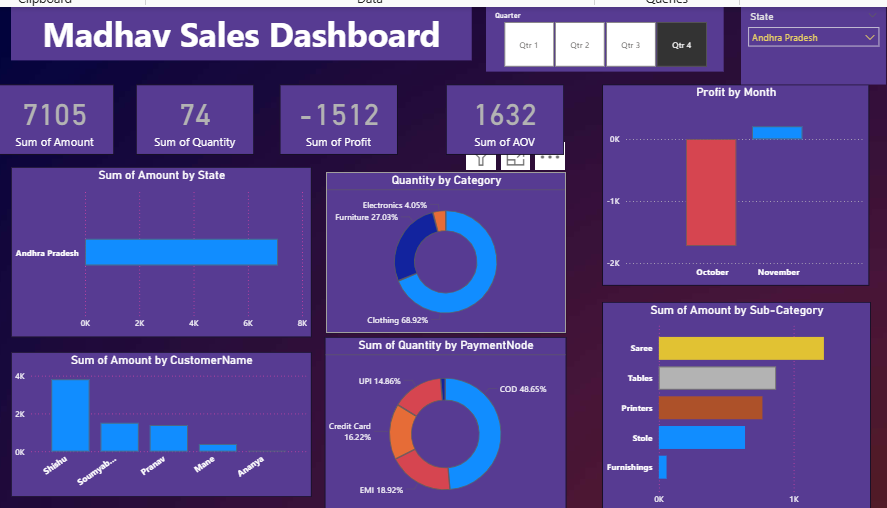

This screenshot's page, from the dashboard's own definition file:
{"tool":"powerbi","page":{"name":"Page 1","canvas":[1280,720],"ordinal":0},"visuals":[{"type":"textbox","box":[22,0,656,76],"z":0},{"type":"columnChart","title":"Profit by Month","fields":{"Category":["Orders (2).Order Date.Variation.Date Hierarchy.Month"],"Y":["Details (2).Profit"]},"box":[864,110,380,286],"z":1000},{"type":"barChart","fields":{"Category":["Details (2).Sub-Category"],"Y":["Details (2).Amount"]},"box":[864,420,382,300],"z":2000},{"type":"donutChart","title":"Sum of Quantity by PaymentNode","fields":{"Category":["Details (2).PaymentMode"],"Y":["Details (2).Quantity"]},"box":[468,470,344,250],"z":3000},{"type":"donutChart","title":"Quantity by Category","fields":{"Category":["Details (2).Category"],"Y":["Details (2).Quantity"],"Series":["Details (2).Category"]},"box":[469.9,234.9,341.7,229.6],"z":4000},{"type":"card","fields":{"Values":["Details (2).Amount"]},"box":[0,110,168,100],"z":5000},{"type":"card","fields":{"Values":["Details (2).Quantity"]},"box":[200,110,168,100],"z":6000},{"type":"card","fields":{"Values":["Details (2).Profit"]},"box":[404,110,168,100],"z":7000},{"type":"card","fields":{"Values":["Details (2).AOV"]},"box":[640,110,168,100],"z":8000},{"type":"barChart","fields":{"Category":["Orders (2).State"],"Y":["Details (2).Amount"]},"box":[22,228,428,242],"z":9000},{"type":"columnChart","fields":{"Category":["Orders (2).CustomerName"],"Y":["Details (2).Amount"]},"box":[22,492,428,206],"z":10000},{"type":"slicer","fields":{"Values":["Orders (2).Order Date.Variation.Date Hierarchy.Quarter"]},"box":[698,0,338,92],"z":11000},{"type":"slicer","fields":{"Values":["Orders (2).State"]},"box":[1060.8,0,206.5,110.3],"z":12000}]}

Visuals, with their boxes in screenshot pixels (x1, y1, x2, y2):
textbox: bbox(6, 5, 471, 58)
"Profit by Month" columnChart: bbox(603, 83, 872, 285)
barChart - Details (2).Sub-Category x Details (2).Amount: bbox(603, 302, 874, 507)
"Sum of Quantity by PaymentNode" donutChart: bbox(322, 338, 566, 507)
"Quantity by Category" donutChart: bbox(324, 171, 566, 334)
card - Details (2).Amount: bbox(0, 83, 110, 153)
card - Details (2).Quantity: bbox(132, 83, 251, 153)
card - Details (2).Profit: bbox(277, 83, 396, 153)
card - Details (2).AOV: bbox(444, 83, 563, 153)
barChart - Orders (2).State x Details (2).Amount: bbox(6, 166, 310, 338)
columnChart - Orders (2).CustomerName x Details (2).Amount: bbox(6, 353, 310, 499)
slicer - Orders (2).Order Date.Variation.Date Hierarchy.Quarter: bbox(485, 5, 725, 70)
slicer - Orders (2).State: bbox(742, 5, 886, 83)
